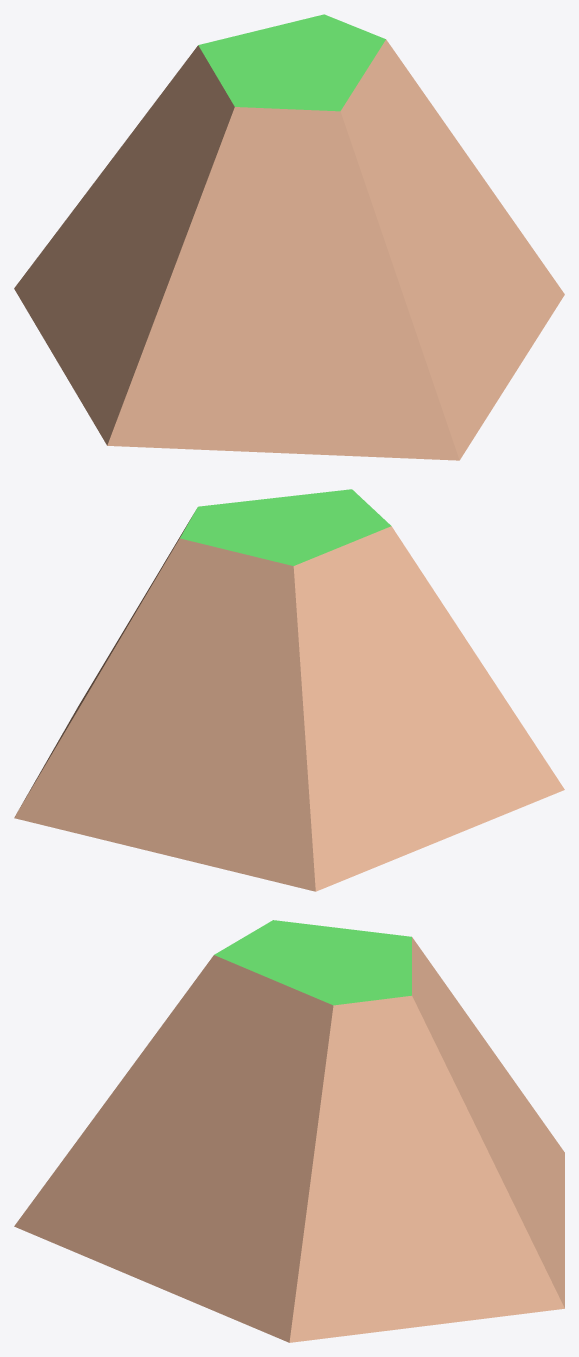
File: n_rock_smallA.glb
The picture shows the model from 3 angles, top to bottom: view 1: azimuth 30°, elevation 25°; view 2: azimuth 150°, elevation 25°; view 3: azimuth 270°, elevation 25°; orthographic projection. The views are drawn at different scales.
Visible parts, largest first — view 1: rock_smallA; view 2: rock_smallA; view 3: rock_smallA.
Boxes of the visible parts, box(x1,y1,x2,y2) form: rock_smallA: box(14, 14, 564, 460); rock_smallA: box(14, 489, 564, 891); rock_smallA: box(14, 920, 564, 1342).
Bounding box in the file's own units: 0.9434 × 0.5 × 0.9434.
